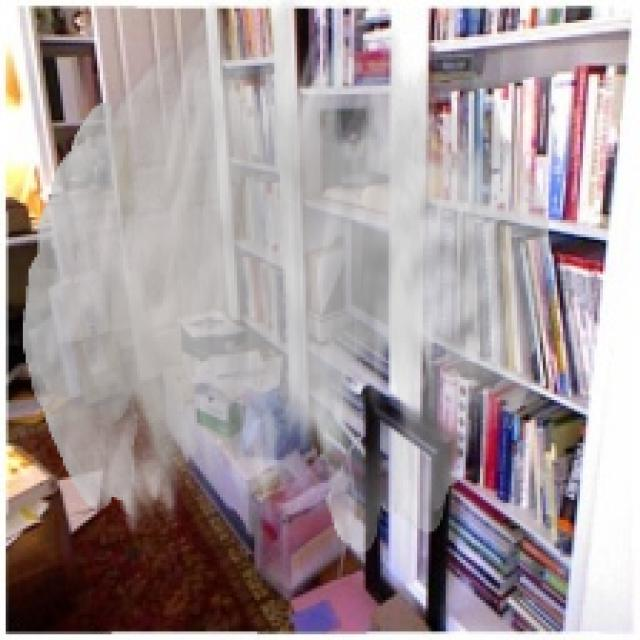smoke: (22, 0, 552, 555)
